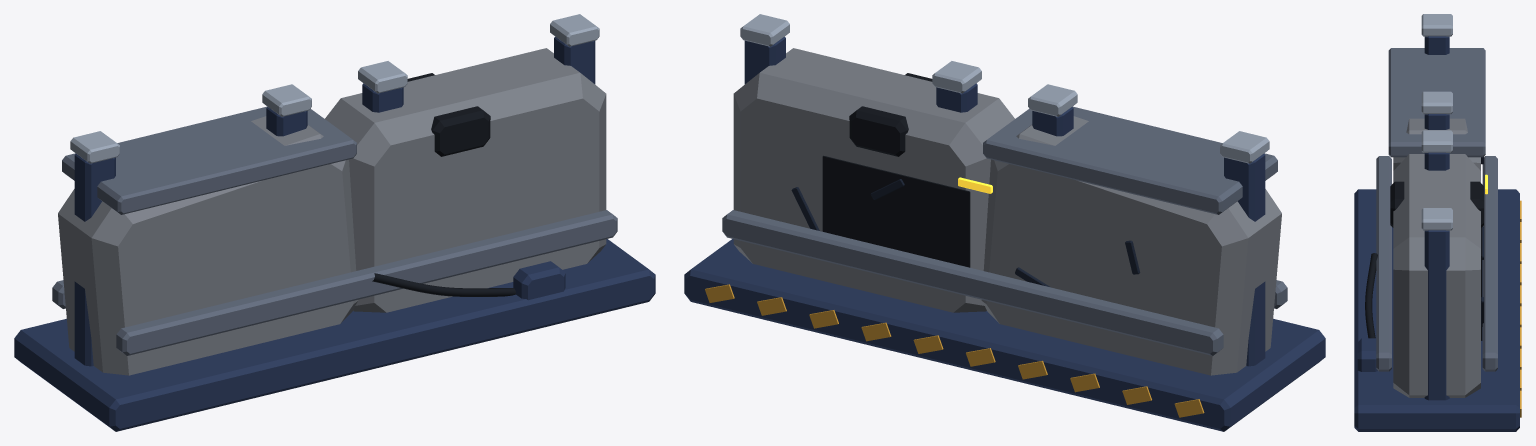
File: tower_barricade_damaged.glb
3 views of the same model, side by side, from view 1: azimuth 30°, elevation 25°; view 2: azimuth 150°, elevation 25°; view 3: azimuth 270°, elevation 25° (orthographic). The views are drawn at different scales.
Visible parts, largest first — view 1: barricade_block_l, barricade_block_r, barricade_footing, barricade_block_cap_r, barricade_beam_rear, barricade_post1.5, barricade_chip, barricade_junction, barricade_loom, barricade_post-1.5, barricade_post_cap-1.5, barricade_post_cap0.3 (+4 smaller); view 2: barricade_block_r, barricade_block_l, barricade_footing, barricade_block_cap_r, barricade_beam, barricade_scorch, barricade_footing_hazard, barricade_post1.5, barricade_chip, barricade_post-1.5, barricade_post_cap-1.5, barricade_post_cap0.3 (+4 smaller); view 3: barricade_block_l, barricade_footing, barricade_block_cap_r, barricade_post-1.5, barricade_beam_rear, barricade_beam, barricade_chip, barricade_block_r, barricade_post_cap0.3, barricade_post_cap-1.5, barricade_post_cap-0.3, barricade_post_cap1.5 (+6 smaller).
Boxes of the visible parts, x1,y1,x2,y2 form: barricade_block_l: [325, 48, 606, 312]; barricade_block_r: [58, 116, 358, 375]; barricade_footing: [14, 239, 655, 431]; barricade_block_cap_r: [62, 106, 356, 214]; barricade_beam_rear: [116, 210, 617, 355]; barricade_post1.5: [74, 153, 115, 366]; barricade_chip: [407, 73, 490, 156]; barricade_junction: [513, 261, 565, 300]; barricade_loom: [372, 273, 515, 296]; barricade_post-1.5: [554, 36, 595, 84]; barricade_post_cap-1.5: [550, 14, 599, 46]; barricade_post_cap0.3: [262, 84, 311, 116]; barricade_block_r: [981, 116, 1281, 375]; barricade_block_l: [733, 48, 1014, 312]; barricade_footing: [684, 239, 1325, 431]; barricade_block_cap_r: [983, 106, 1277, 214]; barricade_beam: [722, 210, 1223, 355]; barricade_scorch: [822, 155, 970, 267]; barricade_footing_hazard: [705, 284, 1204, 417]; barricade_post1.5: [1224, 153, 1265, 366]; barricade_chip: [849, 73, 932, 156]; barricade_post-1.5: [744, 36, 785, 84]; barricade_post_cap-1.5: [740, 14, 789, 46]; barricade_post_cap0.3: [1028, 84, 1077, 116]; barricade_block_l: [1393, 154, 1480, 397]; barricade_footing: [1354, 189, 1519, 431]; barricade_block_cap_r: [1388, 48, 1485, 157]; barricade_post-1.5: [1424, 230, 1449, 400]; barricade_beam_rear: [1376, 156, 1391, 371]; barricade_beam: [1482, 156, 1497, 371]; barricade_chip: [1390, 181, 1483, 227]; barricade_block_r: [1393, 118, 1480, 170]; barricade_post_cap0.3: [1421, 91, 1452, 114]; barricade_post_cap-1.5: [1421, 208, 1452, 230]; barricade_post_cap-0.3: [1421, 130, 1452, 152]; barricade_post_cap1.5: [1421, 14, 1452, 36].
Size of the model in its own units: 5.03 by 2.24 by 1.6.
